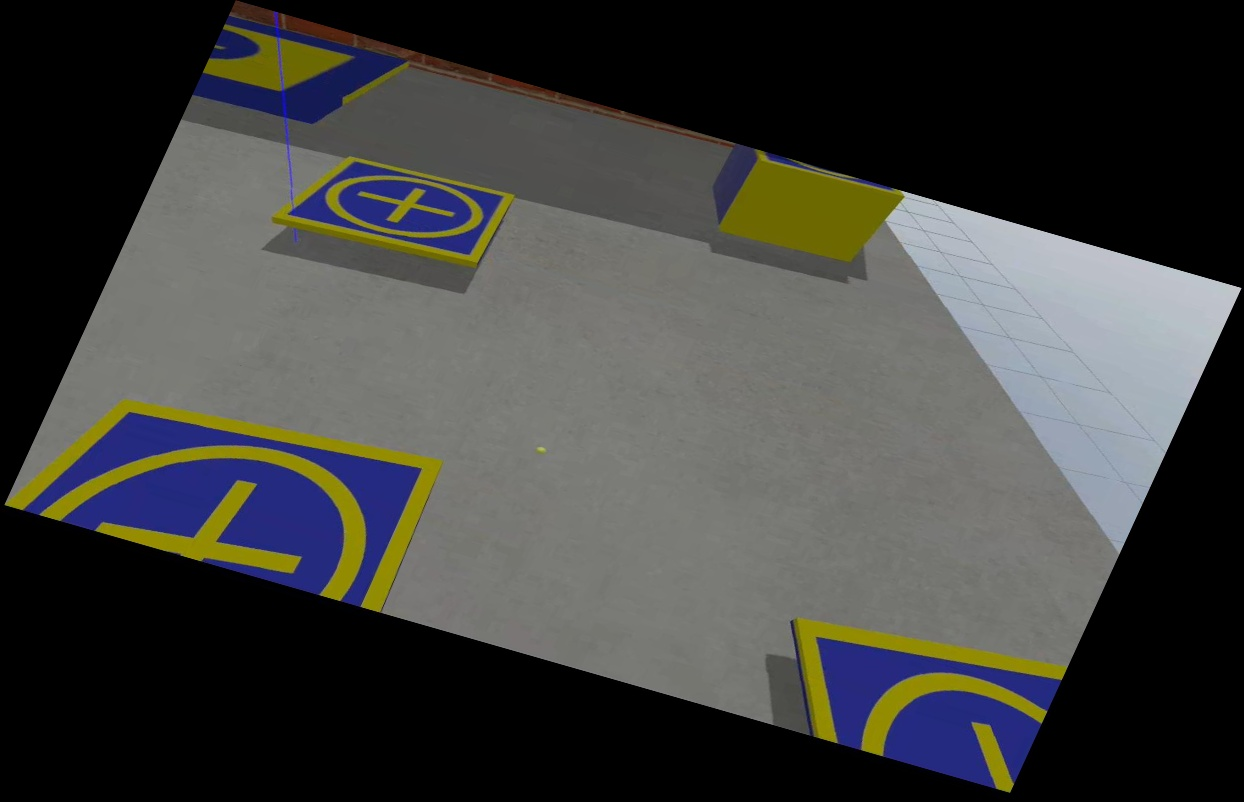large_base: (192, 8, 415, 148)
small_base: (4, 352, 452, 612), (746, 589, 1071, 796), (272, 139, 515, 280), (741, 146, 909, 204)
